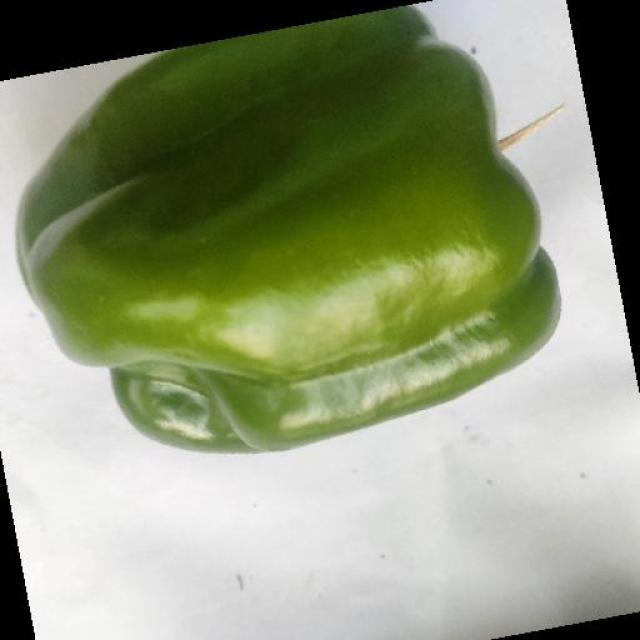Fresh_Capsicum: (62, 70, 558, 392)
